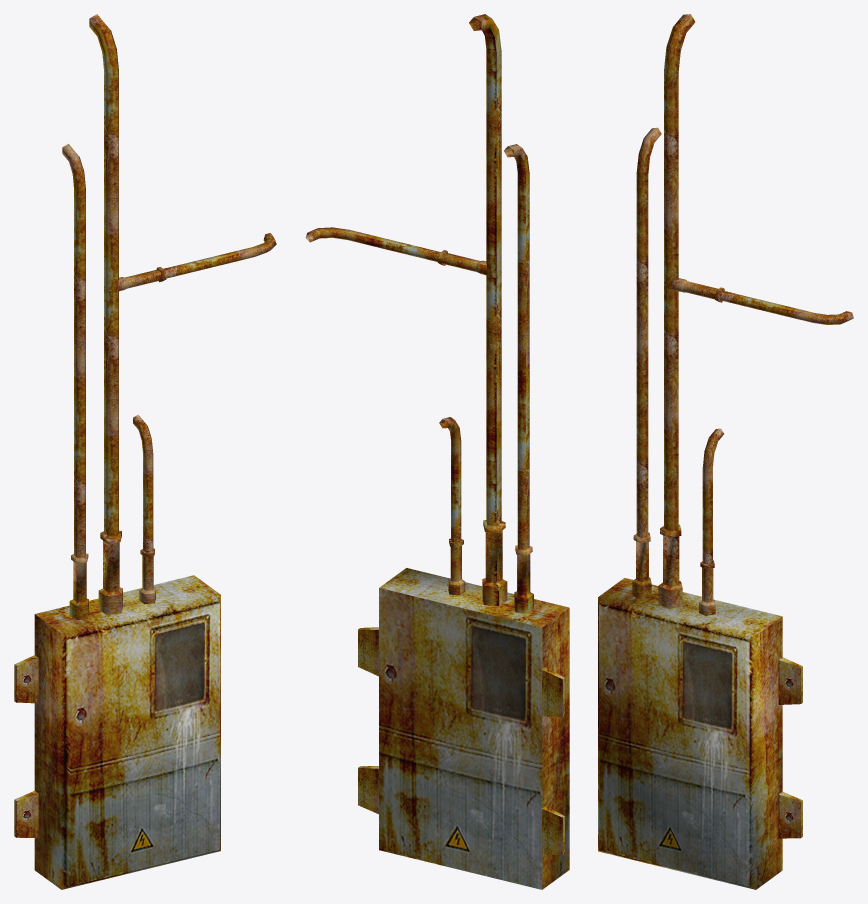
The model's file is Model_Fusebox.fbx.
3 renders of one model, left to right at view 1: azimuth 30°, elevation 25°; view 2: azimuth 150°, elevation 25°; view 3: azimuth 330°, elevation 25°, orthographic. The views are drawn at different scales.
Parts seen in each view (by area): view 1: Electricitybox; view 2: Electricitybox; view 3: Electricitybox.
Part boxes in pixels (x1,y1,x2,y2): Electricitybox: (14,14,276,889); Electricitybox: (305,14,569,889); Electricitybox: (598,14,853,889).
Bounding box in the file's own units: 24.72 × 77.77 × 5.52.
